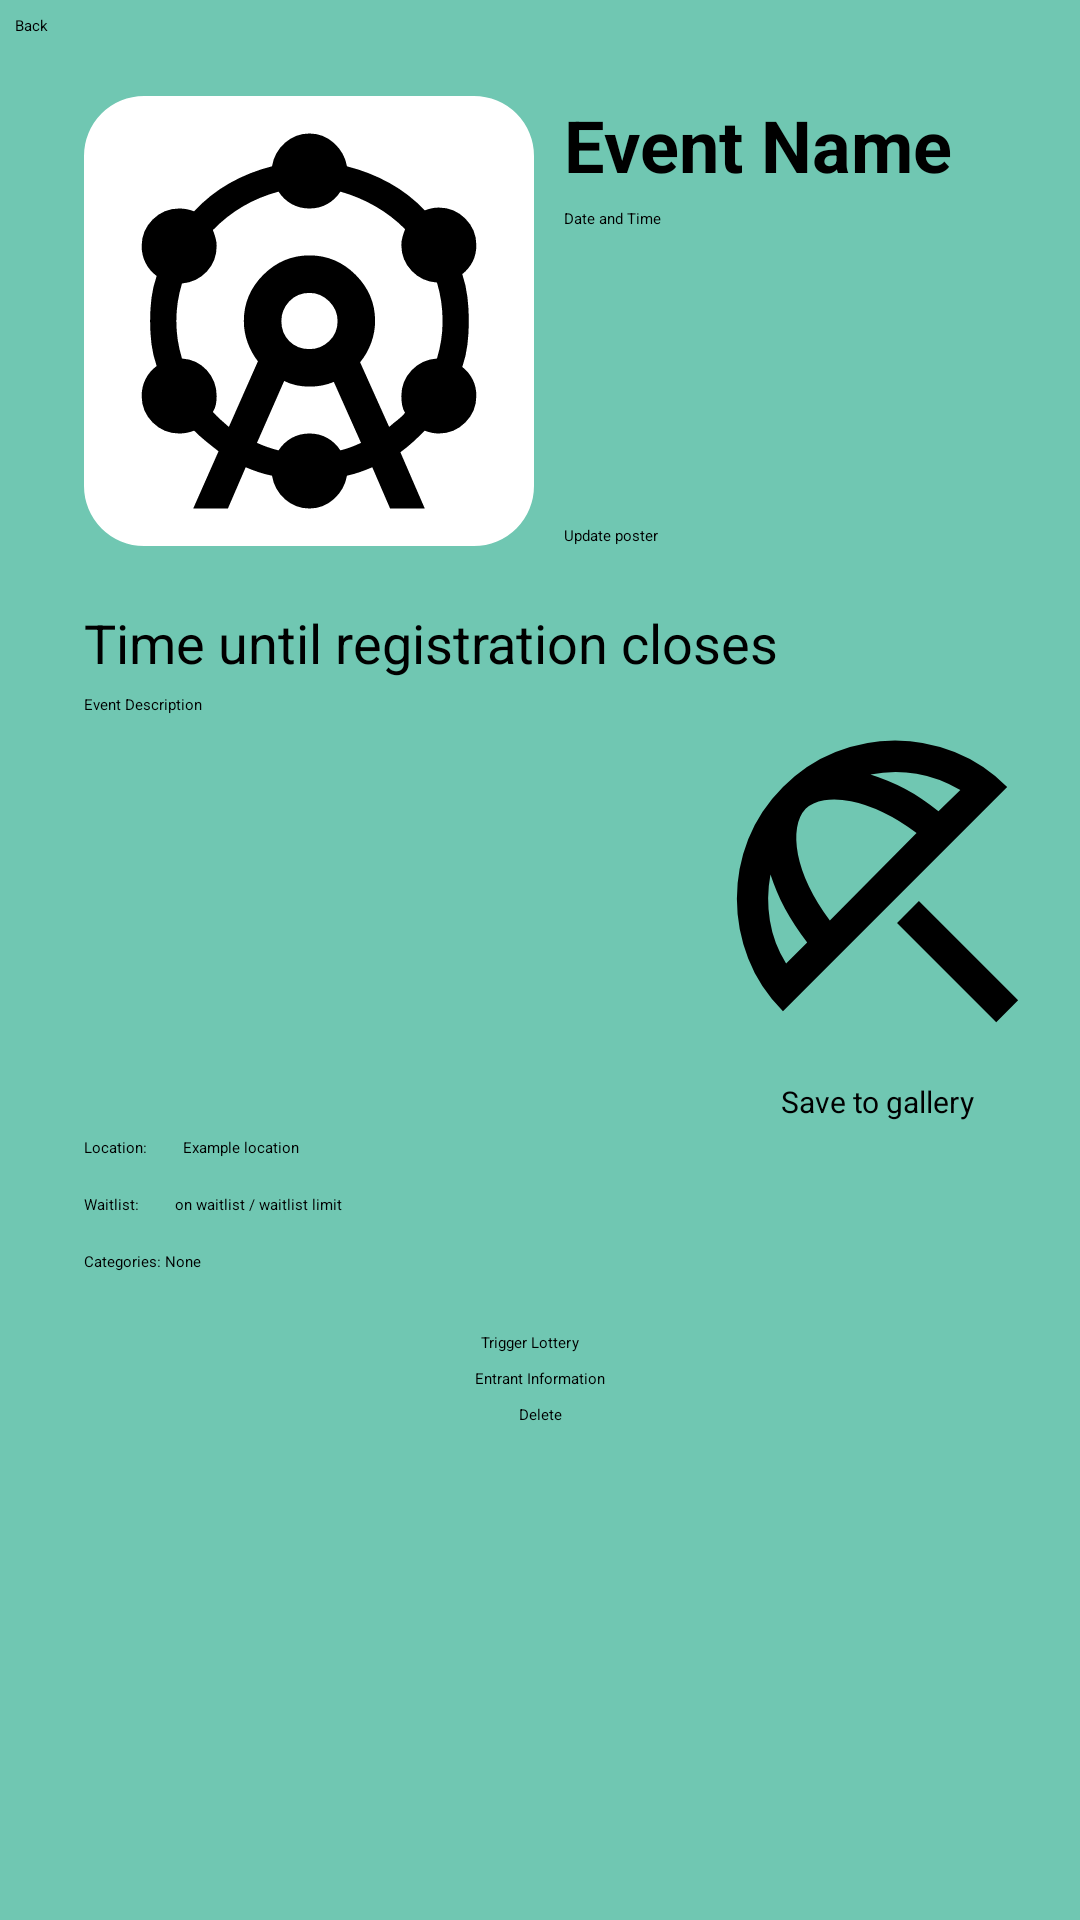

Locate icon controls on the screen. Image size 1080px x 1920px, boxes as bbox=(x1, y1, x2, y2).
beach access: bbox=(737, 740, 1018, 1022)
